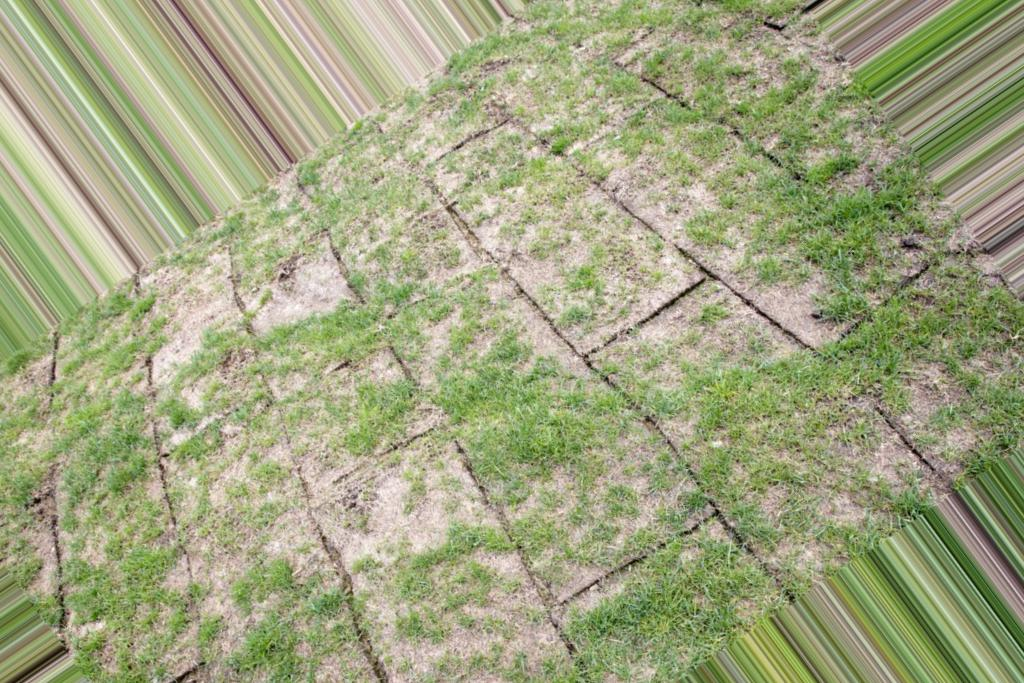patch: (399, 163, 728, 463), (118, 411, 473, 616)
